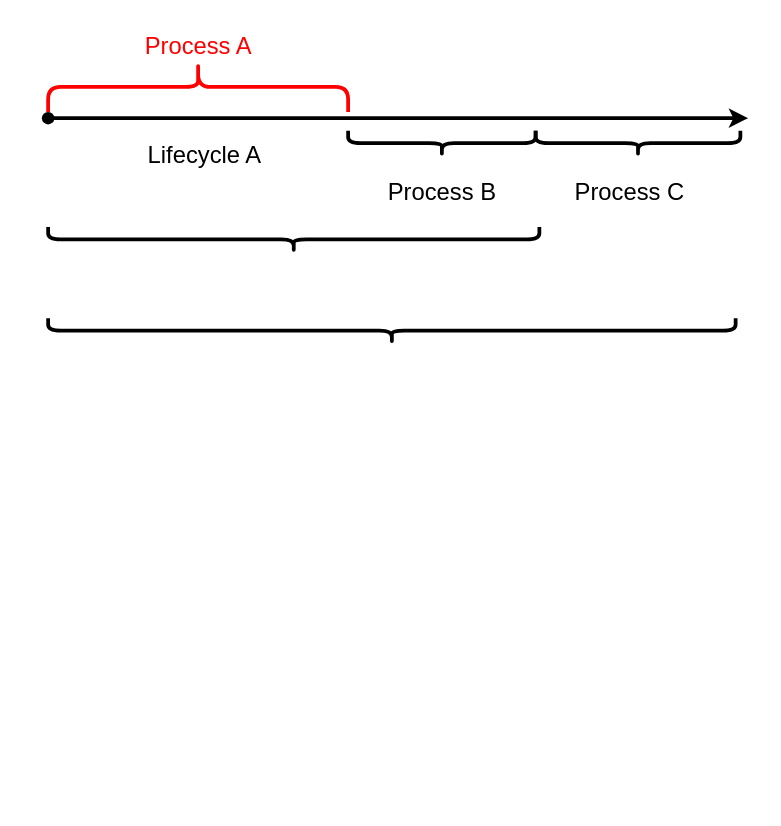
Some shapes in this 781 by 826 pixel diagram are drawn without their labels. Here are the shapes that lost their labels. From the top down, the centre of each, then its label:
At (x=293, y=238): "Lifecycle B".
At (x=391, y=330): "Lifecycle C".
